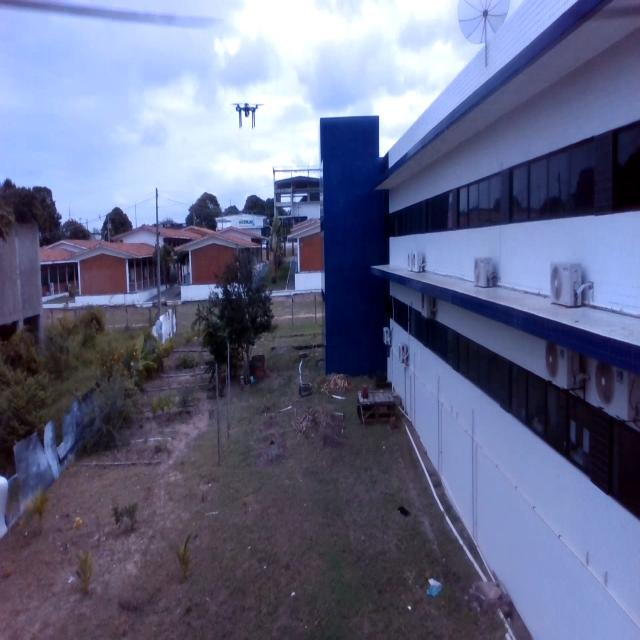-uav-: (228, 86, 268, 147)
